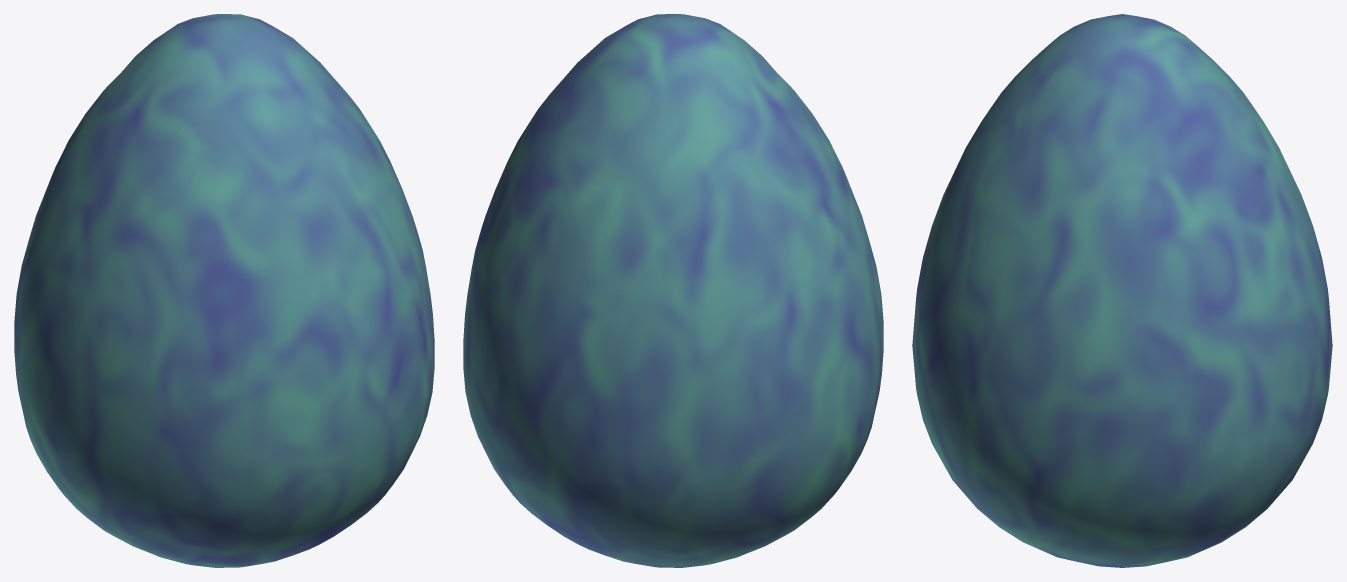
The model's file is egg.fbx.
3 views of the same model, side by side, from view 1: azimuth 30°, elevation 25°; view 2: azimuth 150°, elevation 25°; view 3: azimuth 270°, elevation 25° (orthographic).
Visible parts, largest first — view 1: Icosphere; view 2: Icosphere; view 3: Icosphere.
Part boxes in pixels (x1,y1,x2,y2): Icosphere: (14, 14, 434, 567); Icosphere: (463, 14, 883, 567); Icosphere: (912, 14, 1332, 567).
Size of the model in its own units: 185 by 256 by 185.
Materials: 1 (1 with a texture image).
